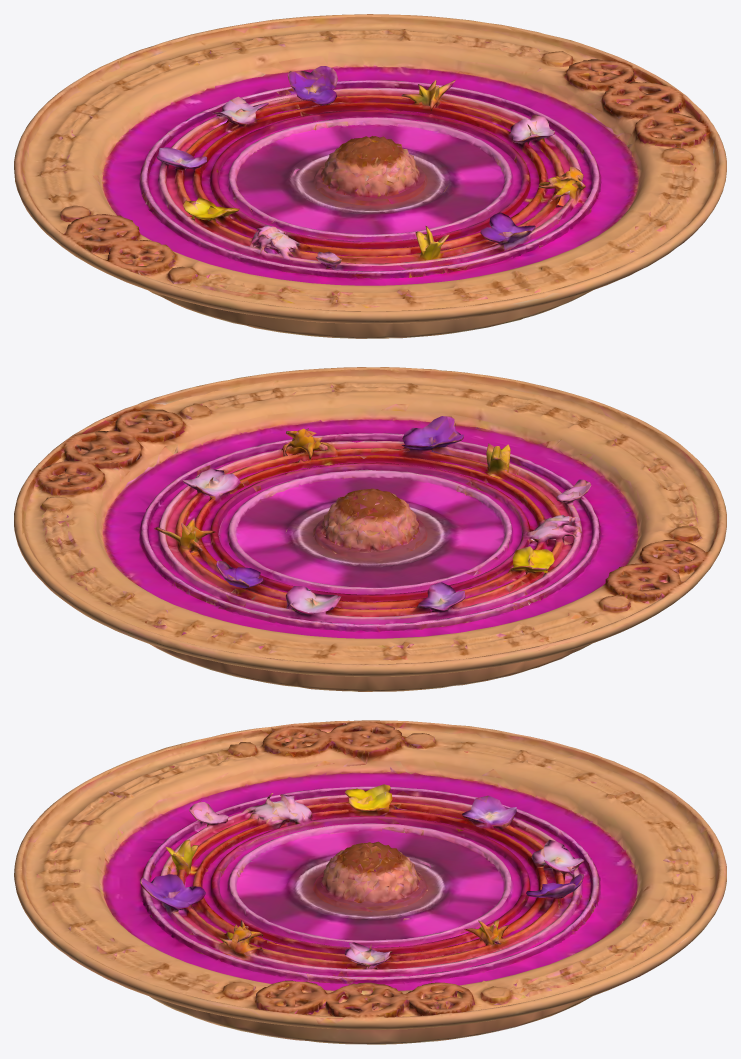
File: edm_3d.glb
The picture shows the model from 3 angles, top to bottom: view 1: azimuth 30°, elevation 25°; view 2: azimuth 150°, elevation 25°; view 3: azimuth 270°, elevation 25°; orthographic projection.
Visible parts, largest first — view 1: mesh_0; view 2: mesh_0; view 3: mesh_0.
Boxes of the visible parts, <box> form: mesh_0: <box>14,14,726,338</box>; mesh_0: <box>14,367,726,691</box>; mesh_0: <box>14,720,726,1044</box>.
Size of the model in its own units: 1.91 by 0.2501 by 1.91.
Materials: 1 (1 with a texture image).
